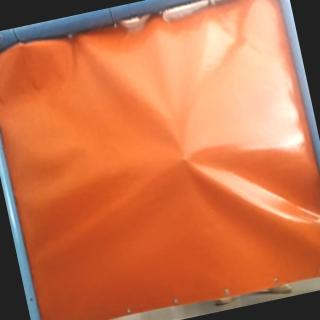Hit-hRxx: (178, 153, 192, 166)
